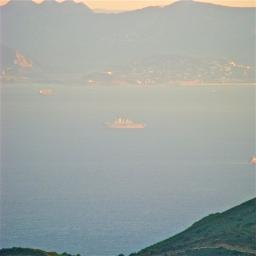Portanaves: (102, 112, 151, 134)
